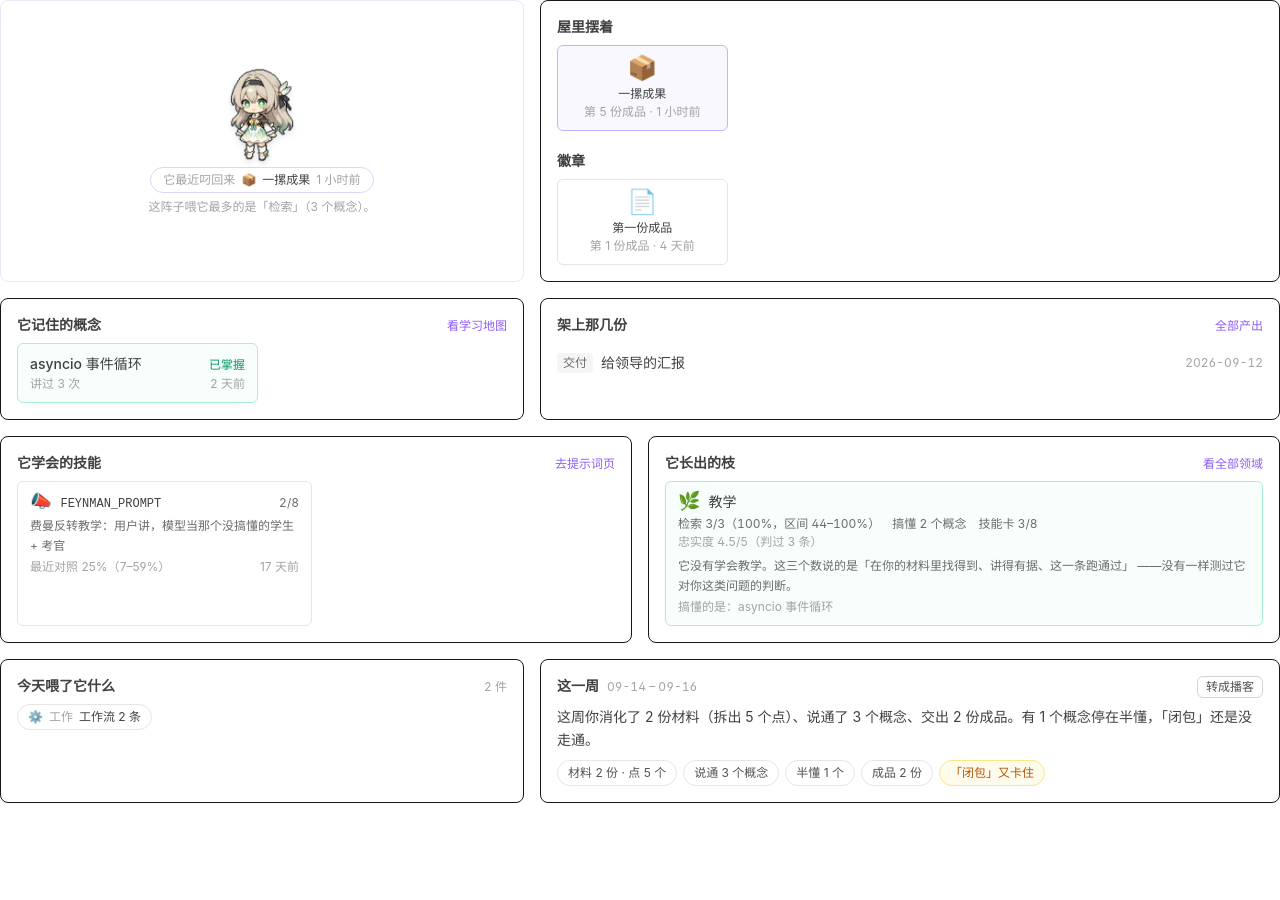
RoomPane · 这一周 › 录不出来就照实说，不假装成功
Step 1. Click the button "转成播客" → click(1230, 687), box [1197,676,1263,698]
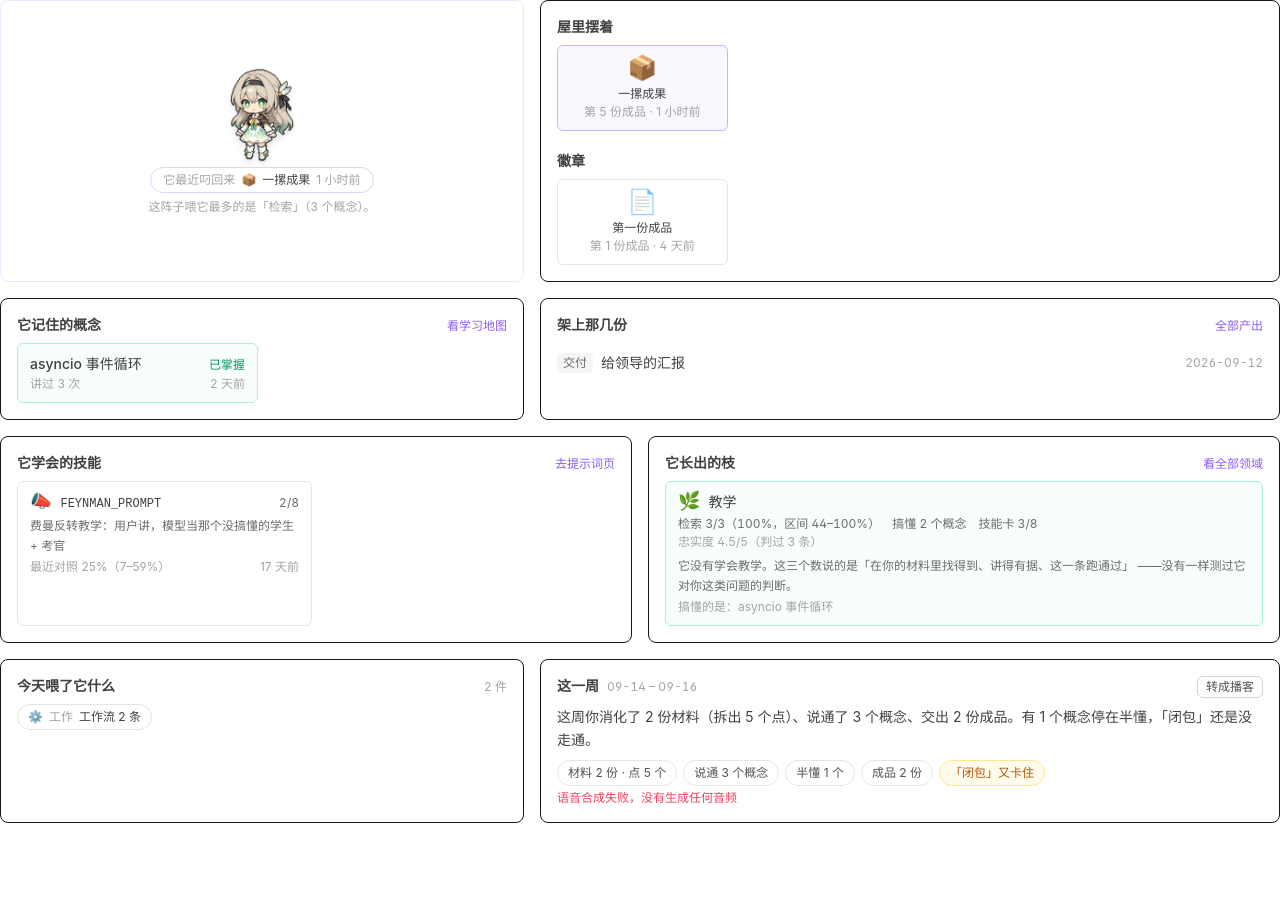
Expected: the text "语音合成失败，没有生成任何音频" is shown, [557,790,737,804]
